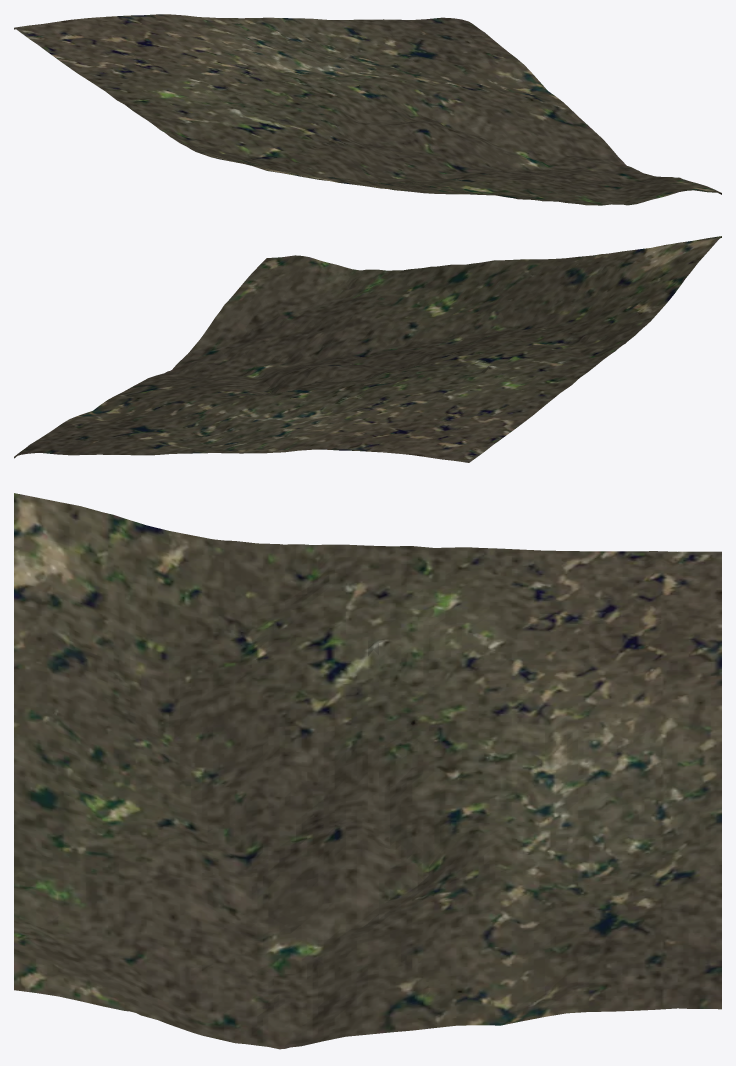
3 views of the same model, one above another, from view 1: azimuth 30°, elevation 25°; view 2: azimuth 150°, elevation 25°; view 3: azimuth 270°, elevation 25° (orthographic). The views are drawn at different scales.
Size of the model in its own units: 250 by 93.05 by 241.
1 material, 1 textured.
